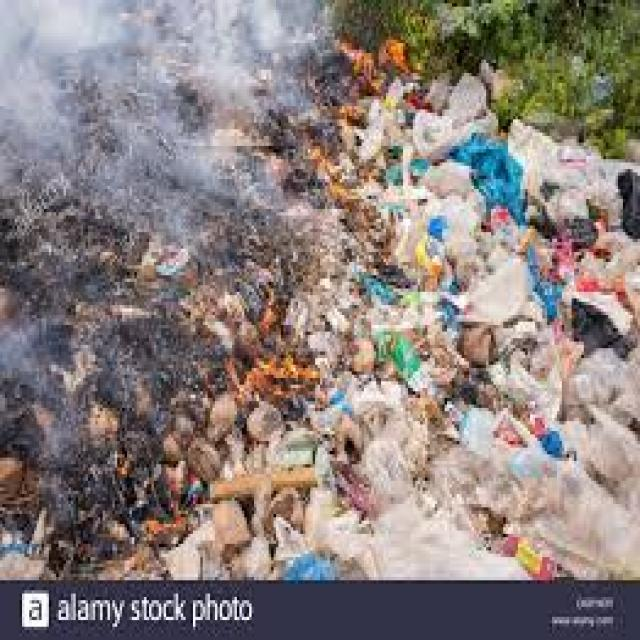plastic: (363, 101, 634, 572)
